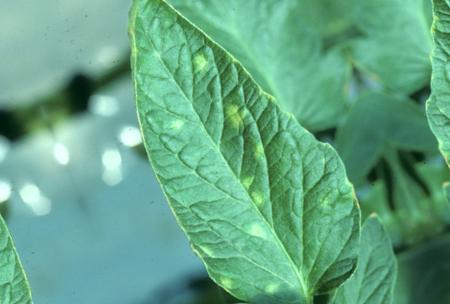Tomato mold leaf: (49, 0, 409, 304)
